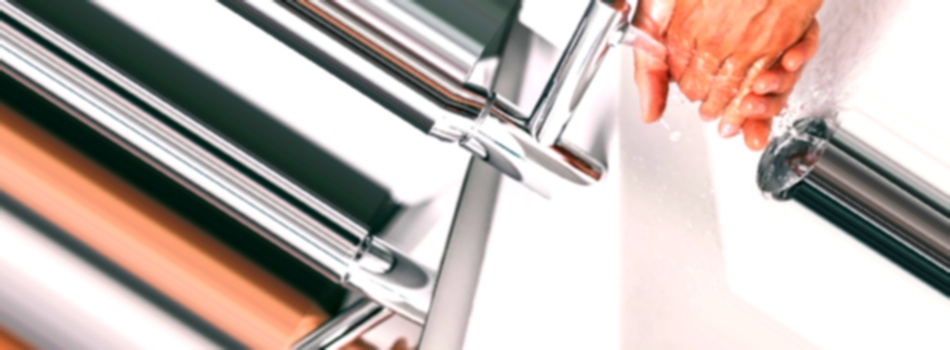washing hand: (505, 0, 893, 231)
